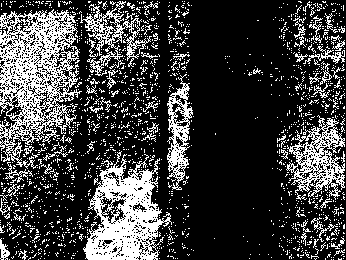person: (169, 86, 190, 162)
